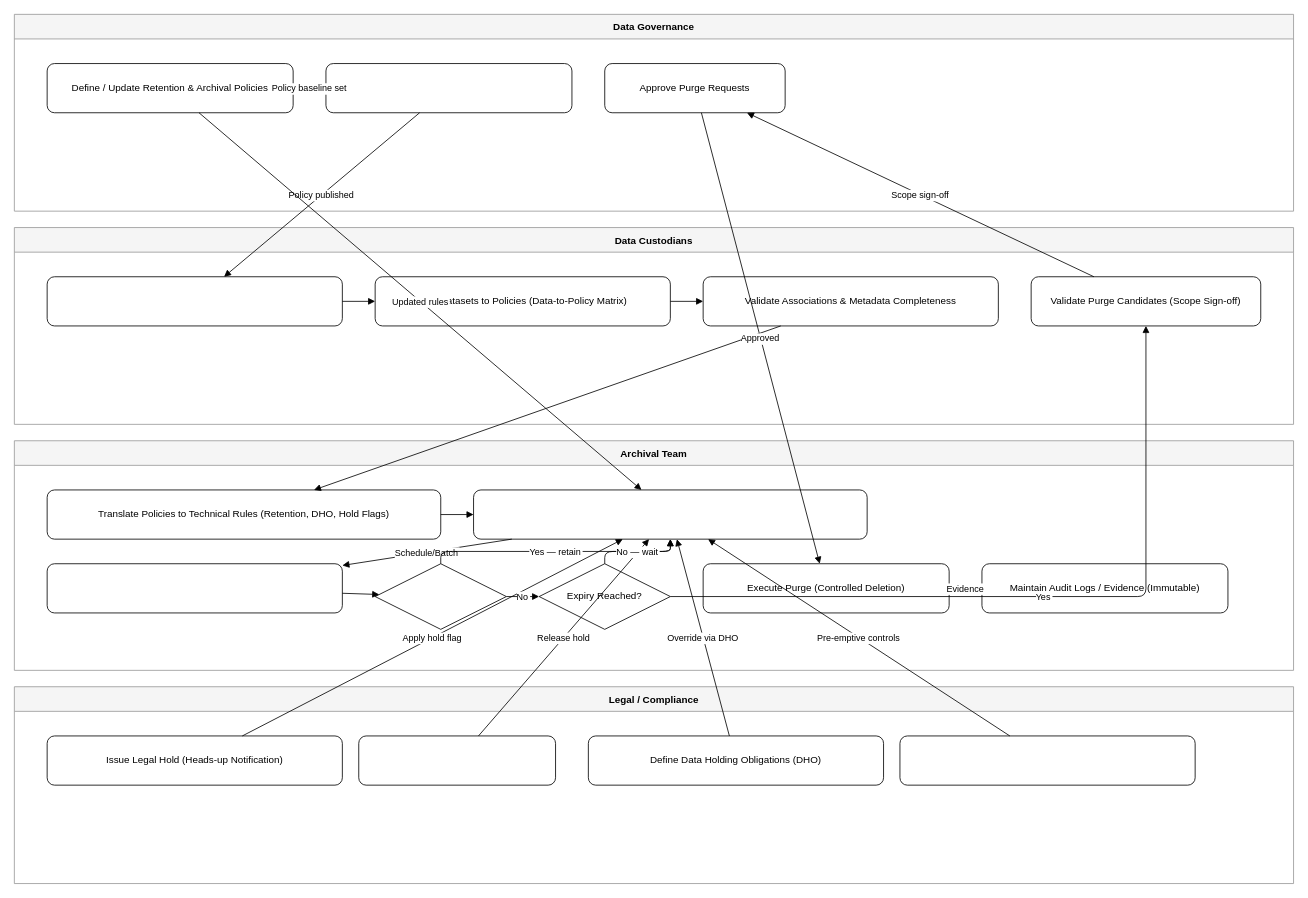
Image size: 1308x898. Some labels were removed from this diagram. The shapes that lost their labels are listed below. From the top down, each one's centre as x and y in pixels, then its label:
At [448,88]: "Publish Policy & Notify Stakeholders".
At [194,301]: "Inventory & Classify Records (Map to Record Classes)".
At [670,514]: "Apply in Catalog/Platform (Glue Catalog, Tags, Rule Engine)".
At [194,588]: "Generate Purge Candidates (Scheduler / Job)".
At [440,596]: "Legal Hold Active?".
At [457,760]: "Release Legal Hold".
At [1047,760]: "Heads-up for Litigation / Investigations".
